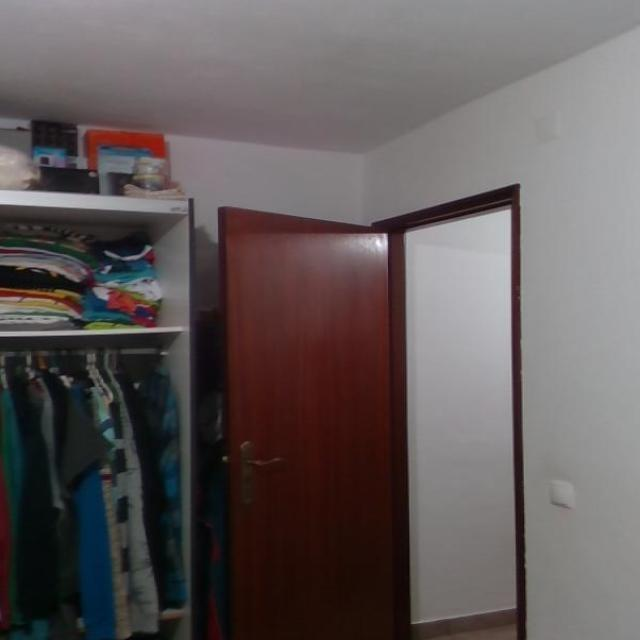door: (217, 204, 398, 638)
